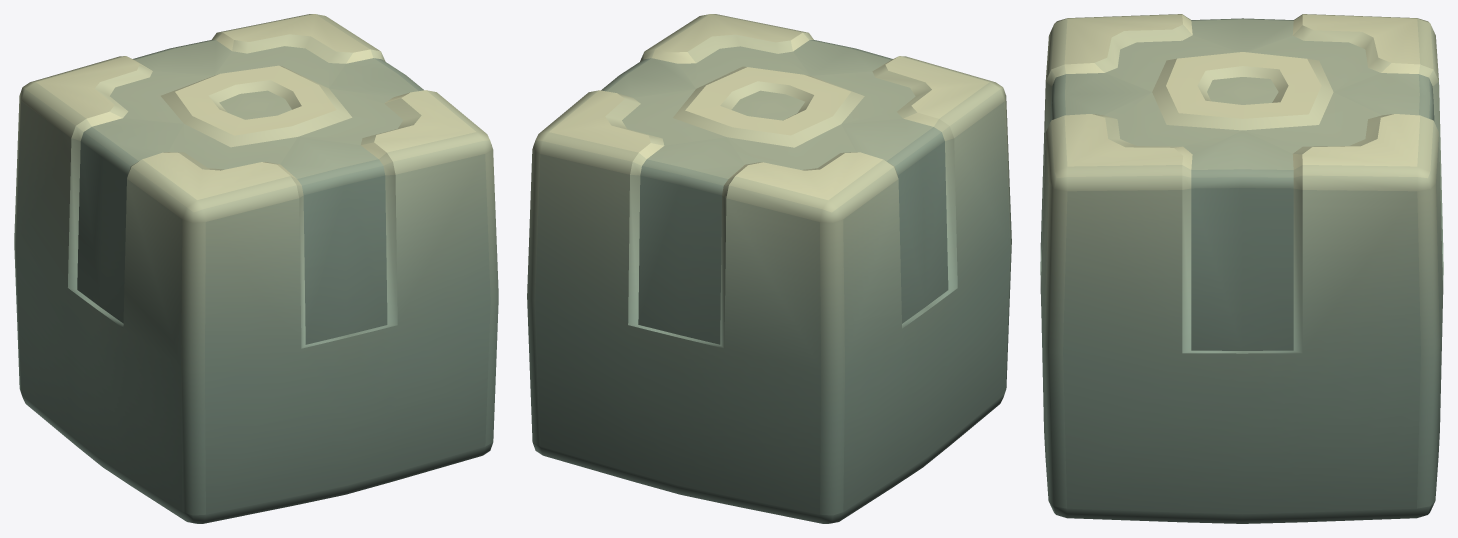
Rendered from Stone_Free4.fbx.
The picture shows the model from 3 angles, left to right: view 1: azimuth 30°, elevation 25°; view 2: azimuth 150°, elevation 25°; view 3: azimuth 270°, elevation 25°; orthographic projection. The views are drawn at different scales.
Parts seen in each view (by area): view 1: Stone_Free4_LOD0; view 2: Stone_Free4_LOD0; view 3: Stone_Free4_LOD0.
Boxes of the visible parts, x1,y1,x2,y2 form: Stone_Free4_LOD0: [14, 14, 498, 523]; Stone_Free4_LOD0: [527, 14, 1011, 523]; Stone_Free4_LOD0: [1040, 14, 1443, 523].
Size of what is drawn, in the model's own units: 1.09 by 1.09 by 1.09.
